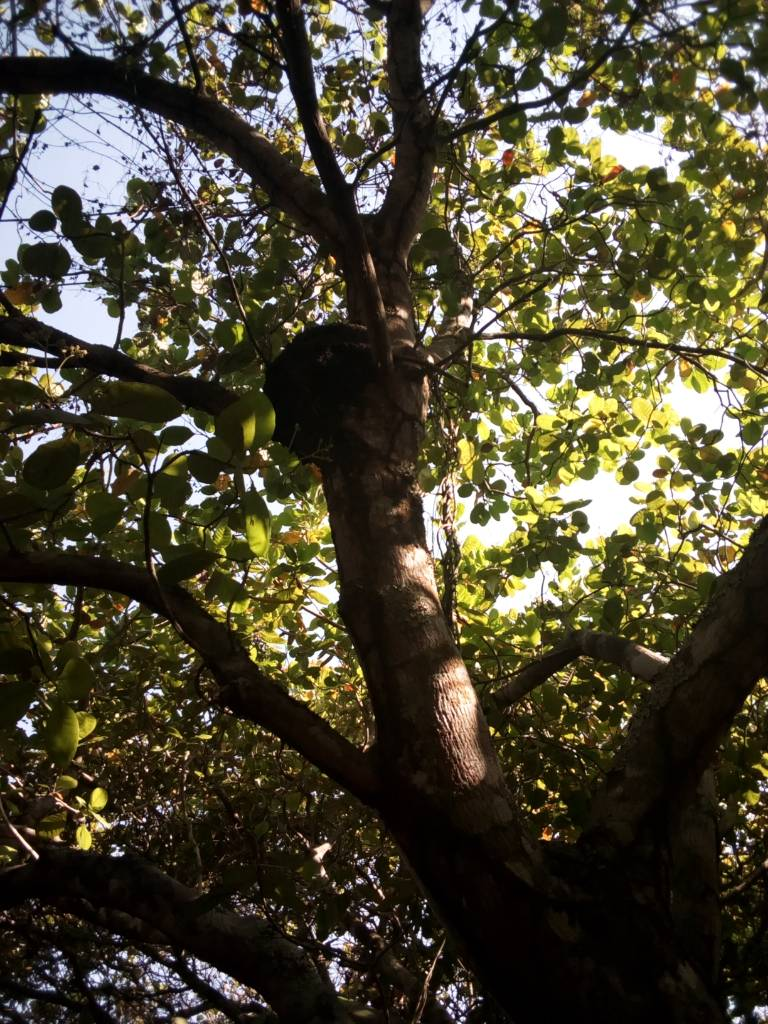Termites: (280, 317, 377, 460)
